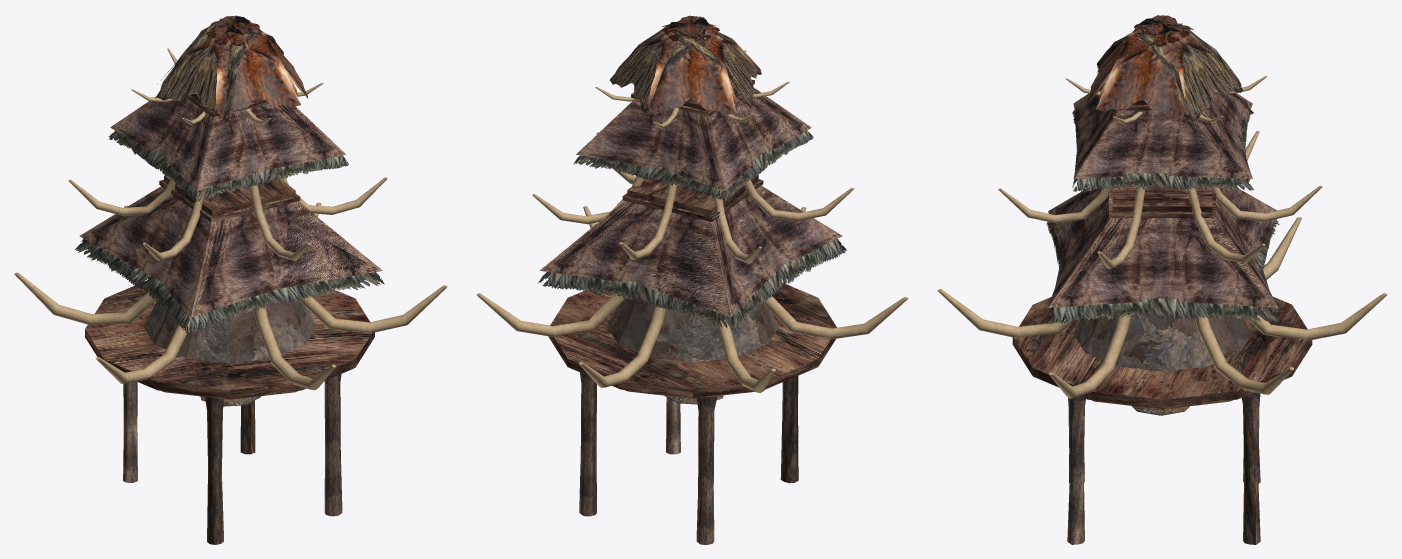
Rendered from boneskin_alarmtower.FBX.
3 views of the same model, side by side, from view 1: azimuth 30°, elevation 25°; view 2: azimuth 150°, elevation 25°; view 3: azimuth 270°, elevation 25° (orthographic). The views are drawn at different scales.
Parts seen in each view (by area): view 1: boneskin_alarmtower; view 2: boneskin_alarmtower; view 3: boneskin_alarmtower.
Part boxes in pixels (x1,y1,x2,y2): boneskin_alarmtower: (14,15,447,544); boneskin_alarmtower: (476,15,908,544); boneskin_alarmtower: (937,15,1387,544).
Bounding box in the file's own units: 84.03 × 112 × 93.69.
